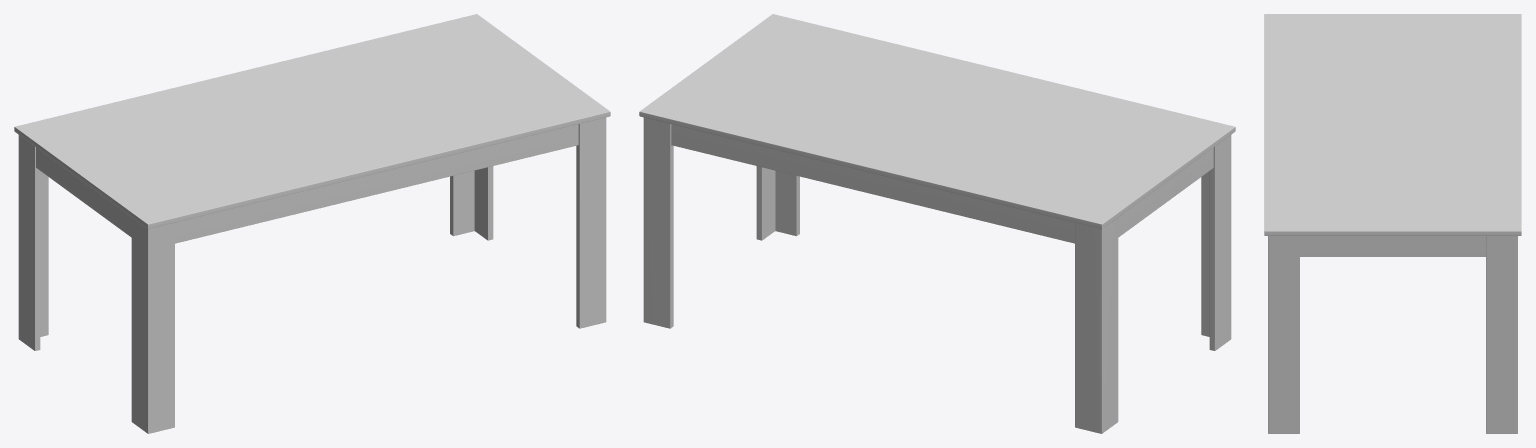
3 renders of one model, left to right at view 1: azimuth 30°, elevation 25°; view 2: azimuth 150°, elevation 25°; view 3: azimuth 270°, elevation 25°, orthographic. The views are drawn at different scales.
Parts seen in each view (by area): view 1: wood; view 2: wood; view 3: wood.
Boxes of the visible parts, x1,y1,x2,y2 form: wood: (14,14,610,433); wood: (639,14,1235,433); wood: (1264,14,1521,433).
Bounding box in the file's own units: 1.8 × 0.787 × 0.9.
1 material, 1 textured.
